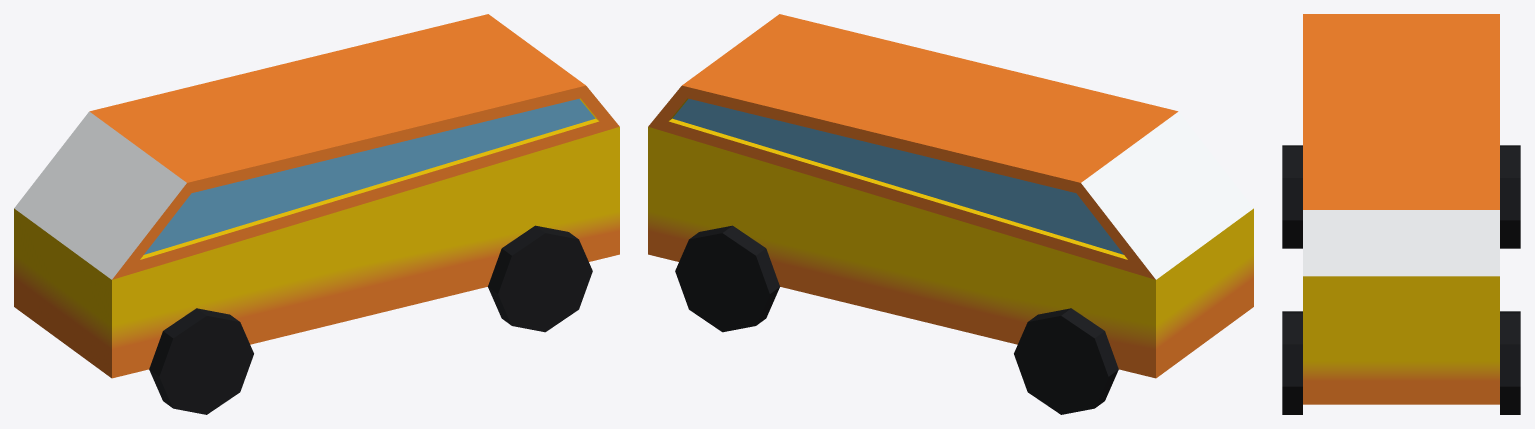
The model's file is motionPlane.glb.
3 views of the same model, side by side, from view 1: azimuth 30°, elevation 25°; view 2: azimuth 150°, elevation 25°; view 3: azimuth 270°, elevation 25° (orthographic).
Visible parts, largest first — view 1: body1; view 2: body1; view 3: body1.
Part boxes in pixels (x1,y1,x2,y2): body1: (14, 14, 619, 414); body1: (648, 14, 1253, 414); body1: (1282, 14, 1520, 414).
Size of the model in its own units: 2.4 by 1.02 by 0.968.
1 material, 1 textured.
